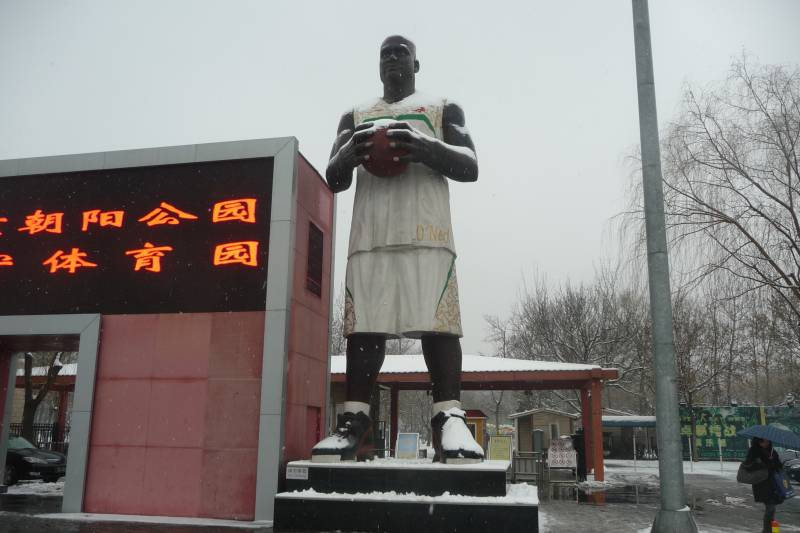person: (735, 432, 789, 533)
person-like: (307, 33, 492, 463)
